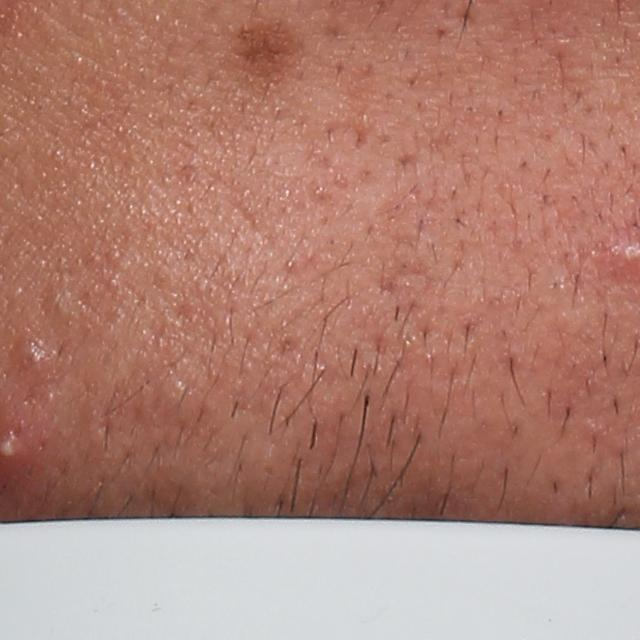papule: (12, 343, 48, 377)
